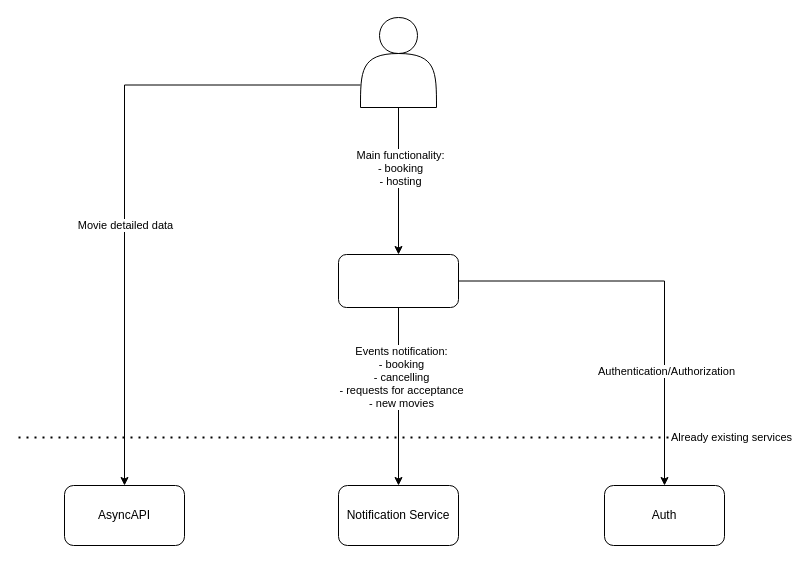
This 809x563 diagram has some shape labels left out. The shapes that lost their labels are listed below. From the top down, each one's centre as x and y in pixels, then its label:
the point at 398,62: User
the point at 398,281: Bookings Service
